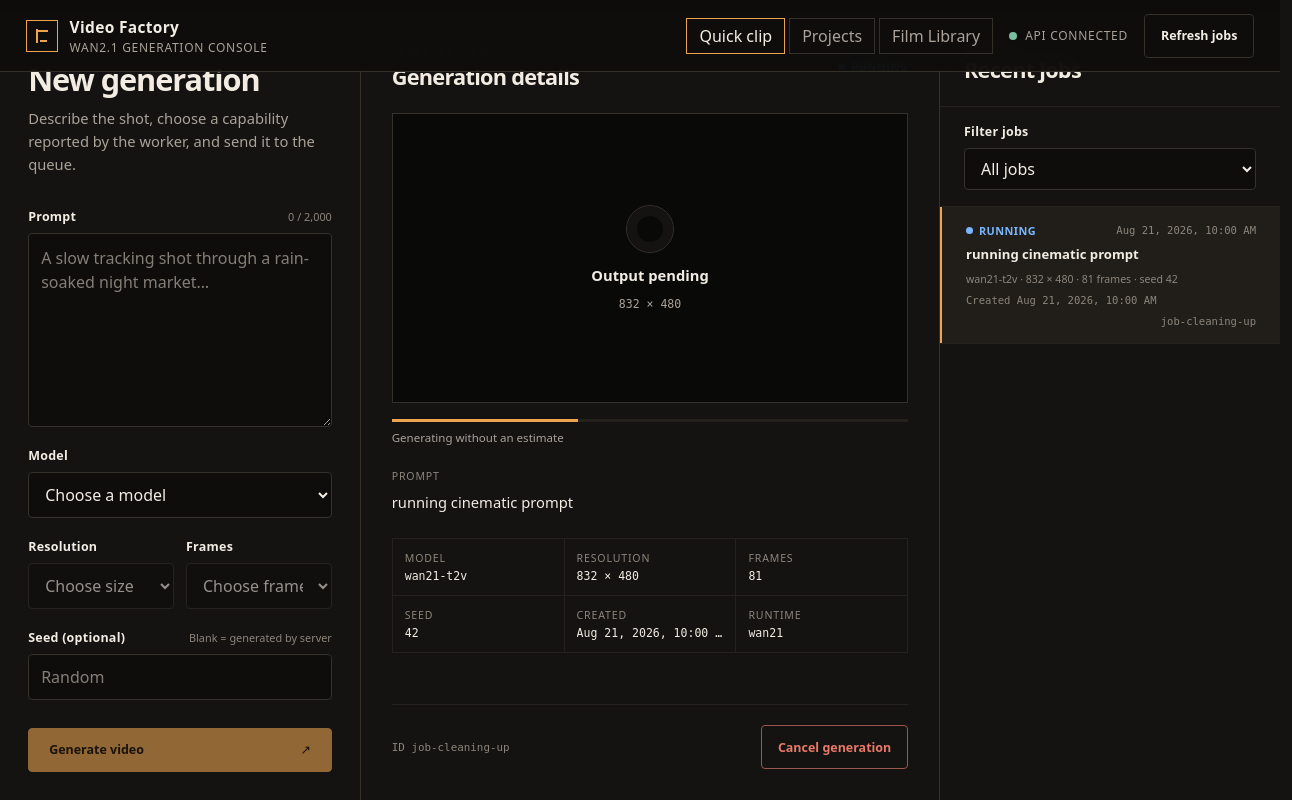
it: App › shows cooperative cleanup when a running cancellation response remains running
The image size is (1292, 800).
(page scrolled)
Check: the progress indicator named "Generation progress" is shown, box [392,419,908,445]
Click the button "Cancel generation". click: (835, 747)
box: [761,725,908,769]
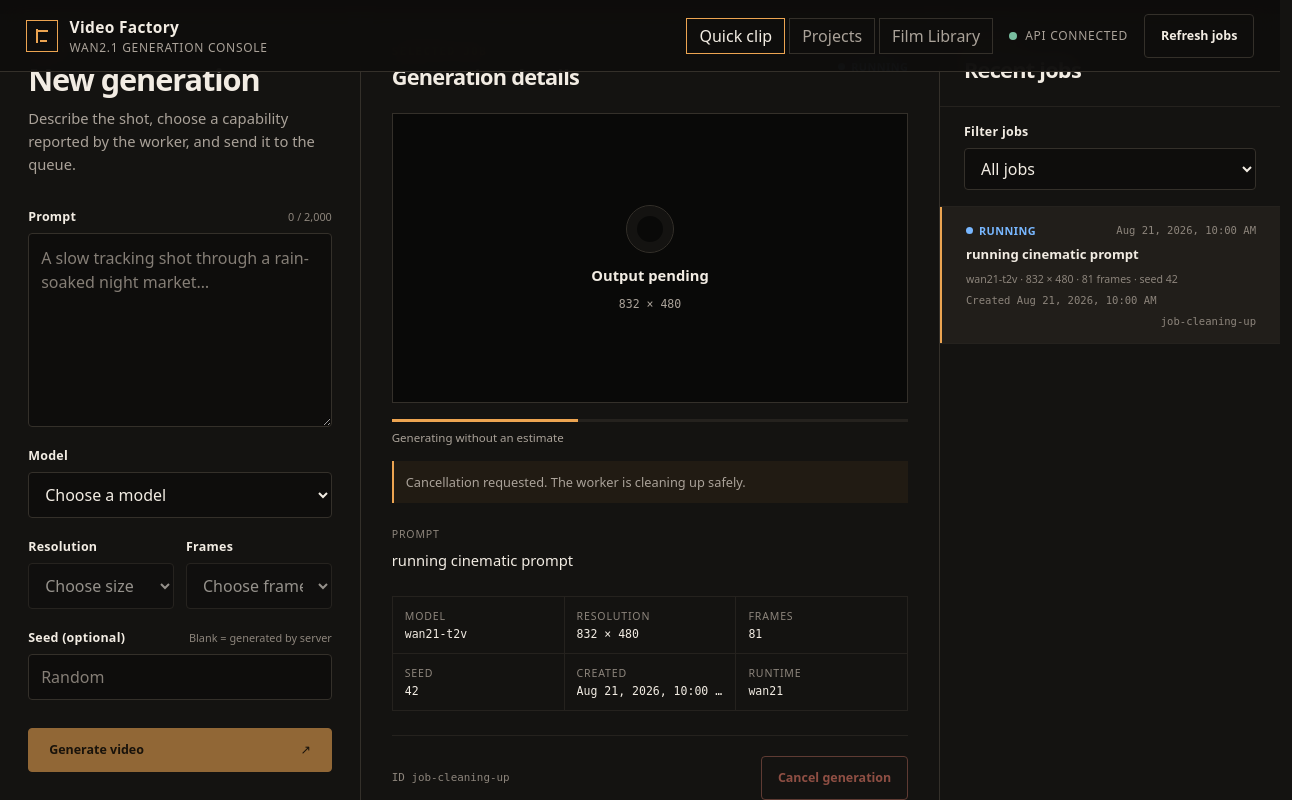
Check: the button "Cancel generation" is disabled, box [761,756,908,799]
